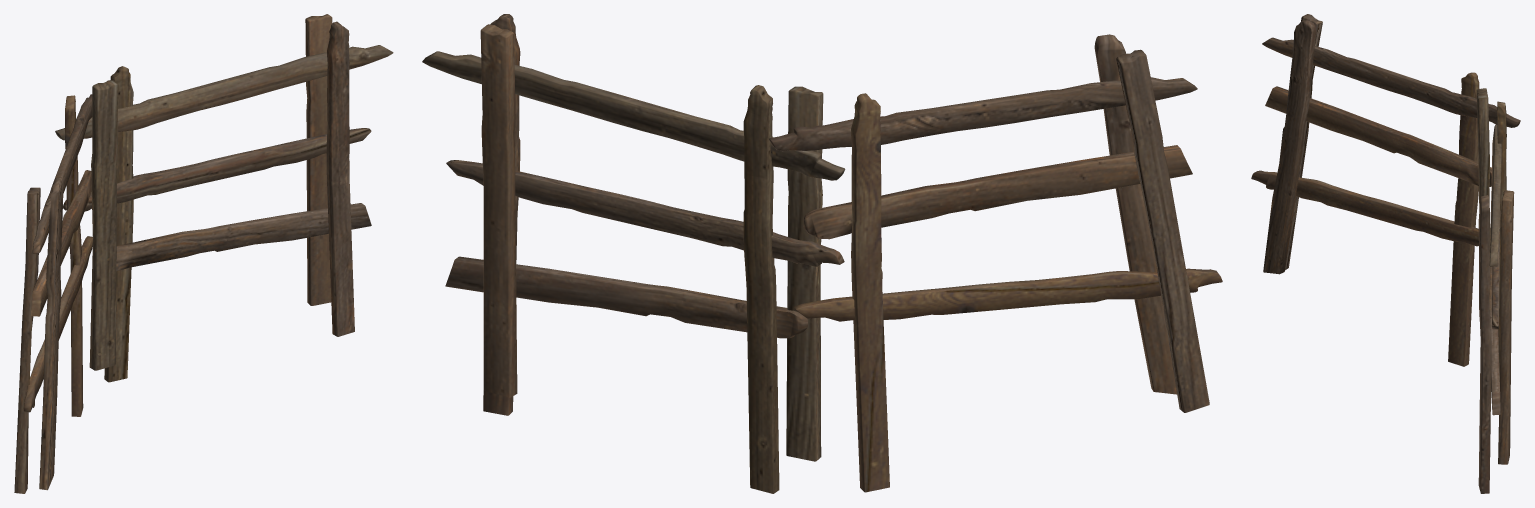
Rendered from SM_FAR_WoodFence_03.fbx.
3 views of the same model, side by side, from view 1: azimuth 30°, elevation 25°; view 2: azimuth 150°, elevation 25°; view 3: azimuth 270°, elevation 25° (orthographic). The views are drawn at different scales.
Visible parts, largest first — view 1: SM_FAR_WoodFence_03.mo; view 2: SM_FAR_WoodFence_03.mo; view 3: SM_FAR_WoodFence_03.mo.
Part boxes in pixels (x1,y1,x2,y2): SM_FAR_WoodFence_03.mo: (14, 14, 393, 493); SM_FAR_WoodFence_03.mo: (422, 14, 1222, 493); SM_FAR_WoodFence_03.mo: (1251, 14, 1520, 493).
Size of the model in its own units: 380 by 233 by 192.
